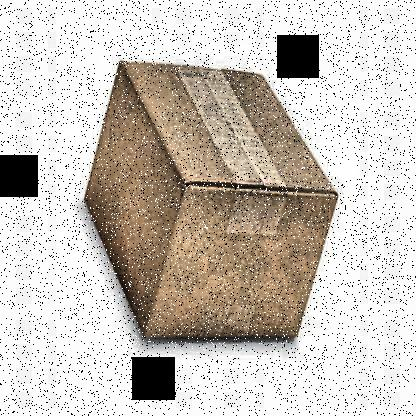no defect parcel: (74, 57, 342, 345)
